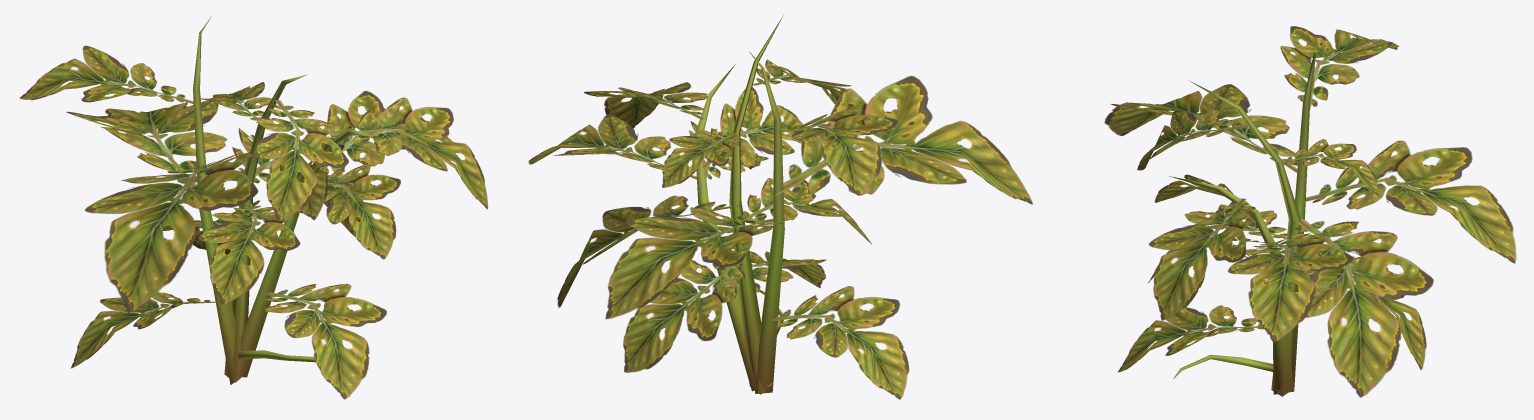
File: plant_potato_S4.gltf
The picture shows the model from 3 angles, left to right: view 1: azimuth 30°, elevation 25°; view 2: azimuth 150°, elevation 25°; view 3: azimuth 270°, elevation 25°; orthographic projection. The views are drawn at different scales.
Parts seen in each view (by area): view 1: plant_potato_S4; view 2: plant_potato_S4; view 3: plant_potato_S4.
Part boxes in pixels (x1,y1,x2,y2): plant_potato_S4: (19, 16, 488, 399); plant_potato_S4: (528, 15, 1032, 399); plant_potato_S4: (1104, 26, 1516, 397).
Bounding box in the file's own units: 0.6879 × 0.5406 × 0.6373.
1 material, 1 textured.
